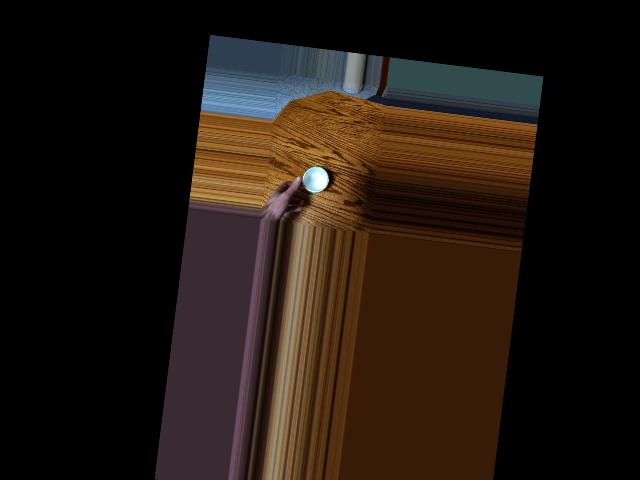cotage: (293, 158, 333, 199)
